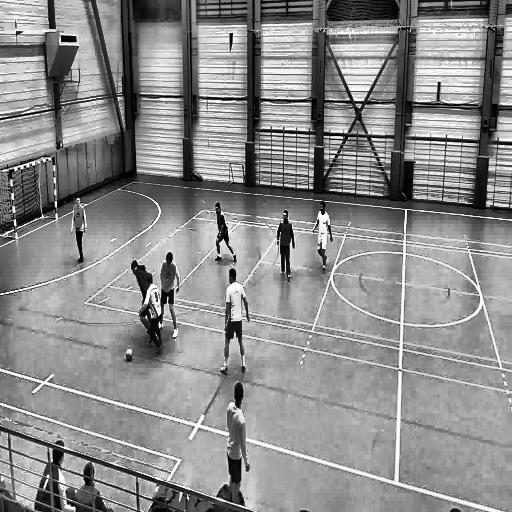ball: (124, 347, 134, 364)
player: (220, 268, 251, 376), (225, 382, 251, 501), (130, 259, 154, 346), (158, 252, 180, 342), (140, 274, 164, 356), (311, 202, 333, 275), (214, 202, 238, 265), (276, 209, 296, 284), (70, 195, 88, 263)
